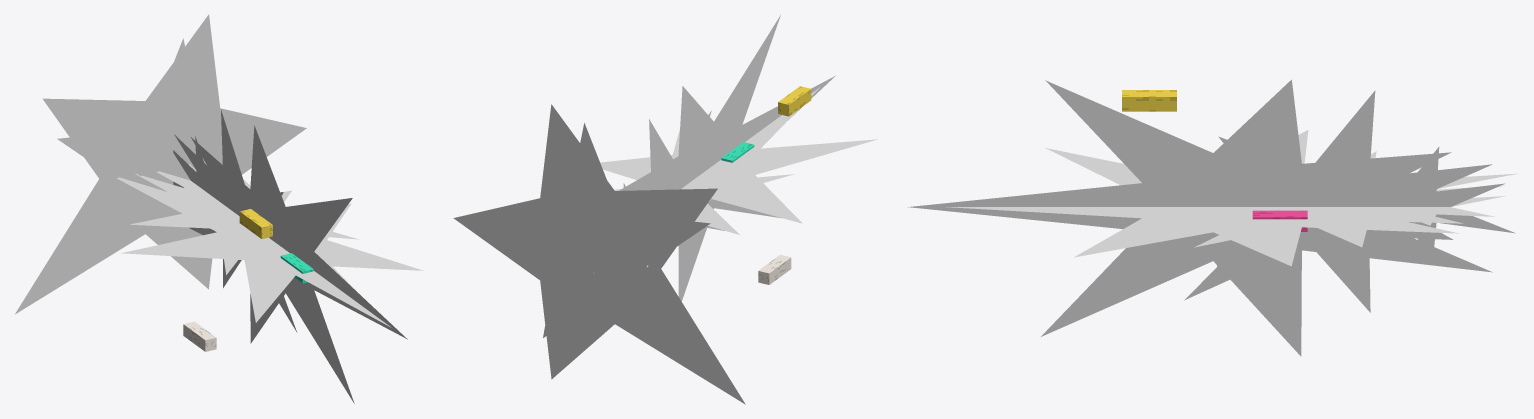
File: Pistol Muzzle Flash.fbx
3 renders of one model, left to right at view 1: azimuth 30°, elevation 25°; view 2: azimuth 150°, elevation 25°; view 3: azimuth 270°, elevation 25°, orthographic. The views are drawn at different scales.
Parts seen in each view (by area): view 1: Pistol Muzzle Flash star 0, Pistol Muzzle Flash flame up 0, Pistol Muzzle Flash star 1, Pistol Muzzle Flash flame flat 0, Pistol Muzzle Flash flame flat 1, Pistol Muzzle Flash flame up 1, Pistol Muzzle Flash star 2, Pistol Muzzle Flash flame up 2, Pistol Muzzle Flash sprinkle 2, Pistol Muzzle Flash sprinkle 4, Pistol Muzzle Flash flame flat 2, Pistol Muzzle Flash sprinkle 1; view 2: Pistol Muzzle Flash star 0, Pistol Muzzle Flash flame up 0, Pistol Muzzle Flash flame flat 0, Pistol Muzzle Flash flame flat 1, Pistol Muzzle Flash flame up 1, Pistol Muzzle Flash star 1, Pistol Muzzle Flash sprinkle 2, Pistol Muzzle Flash sprinkle 4; view 3: Pistol Muzzle Flash flame up 0, Pistol Muzzle Flash flame up 1, Pistol Muzzle Flash flame flat 0, Pistol Muzzle Flash flame flat 1, Pistol Muzzle Flash flame up 2, Pistol Muzzle Flash flame flat 2, Pistol Muzzle Flash sprinkle 2, Pistol Muzzle Flash sprinkle 3.
Boxes of the visible parts, x1,y1,x2,y2 form: Pistol Muzzle Flash star 0: (15,14,306,314); Pistol Muzzle Flash flame up 0: (189,125,407,403); Pistol Muzzle Flash star 1: (57,38,256,261); Pistol Muzzle Flash flame flat 0: (117,177,423,327); Pistol Muzzle Flash flame flat 1: (130,173,359,280); Pistol Muzzle Flash flame up 1: (174,110,300,332); Pistol Muzzle Flash star 2: (128,111,213,234); Pistol Muzzle Flash flame up 2: (173,136,233,211); Pistol Muzzle Flash sprinkle 2: (239,209,272,238); Pistol Muzzle Flash sprinkle 4: (183,321,216,351); Pistol Muzzle Flash flame flat 2: (156,164,211,222); Pistol Muzzle Flash sprinkle 1: (280,253,313,283); Pistol Muzzle Flash star 0: (453,104,745,404); Pistol Muzzle Flash flame up 0: (619,15,835,301); Pistol Muzzle Flash flame flat 0: (600,87,877,267); Pistol Muzzle Flash flame flat 1: (614,134,794,234); Pistol Muzzle Flash flame up 1: (647,110,724,230); Pistol Muzzle Flash star 1: (543,123,710,337); Pistol Muzzle Flash sprinkle 2: (778,86,811,116); Pistol Muzzle Flash sprinkle 4: (758,254,791,284); Pistol Muzzle Flash flame up 0: (908,79,1492,356); Pistol Muzzle Flash flame up 1: (1184,90,1492,312); Pistol Muzzle Flash flame flat 0: (946,130,1517,266); Pistol Muzzle Flash flame flat 1: (1106,151,1504,247); Pistol Muzzle Flash flame up 2: (1315,147,1515,252); Pistol Muzzle Flash flame flat 2: (1331,189,1505,225); Pistol Muzzle Flash sprinkle 2: (1122,90,1176,111); Pistol Muzzle Flash sprinkle 3: (1252,210,1307,231).
Size of the model in its own units: 0.1838 by 0.1654 by 0.2665.
Materials: 8 (5 with a texture image).
